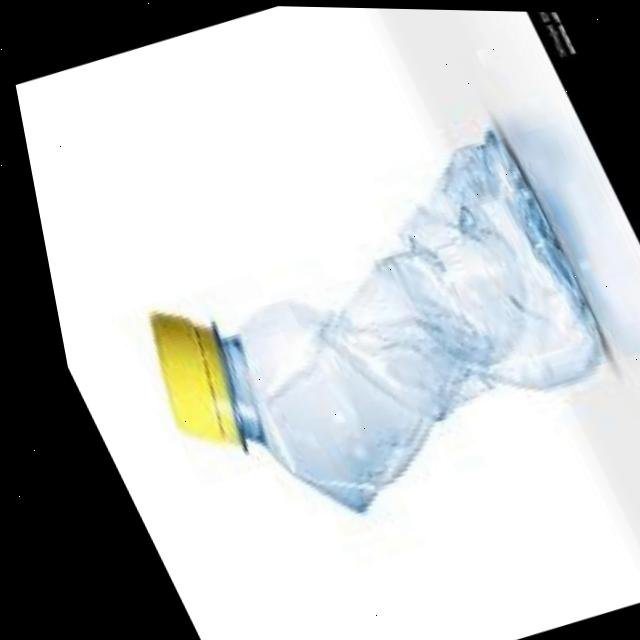sise: (32, 86, 640, 583)
